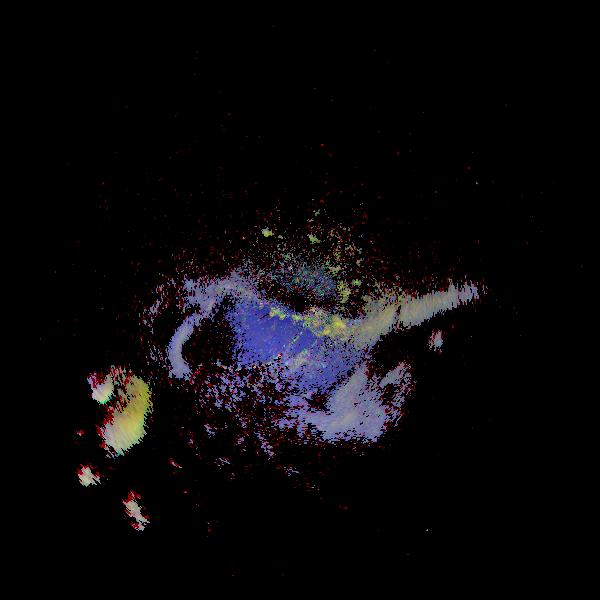roost: (39, 340, 186, 487)
